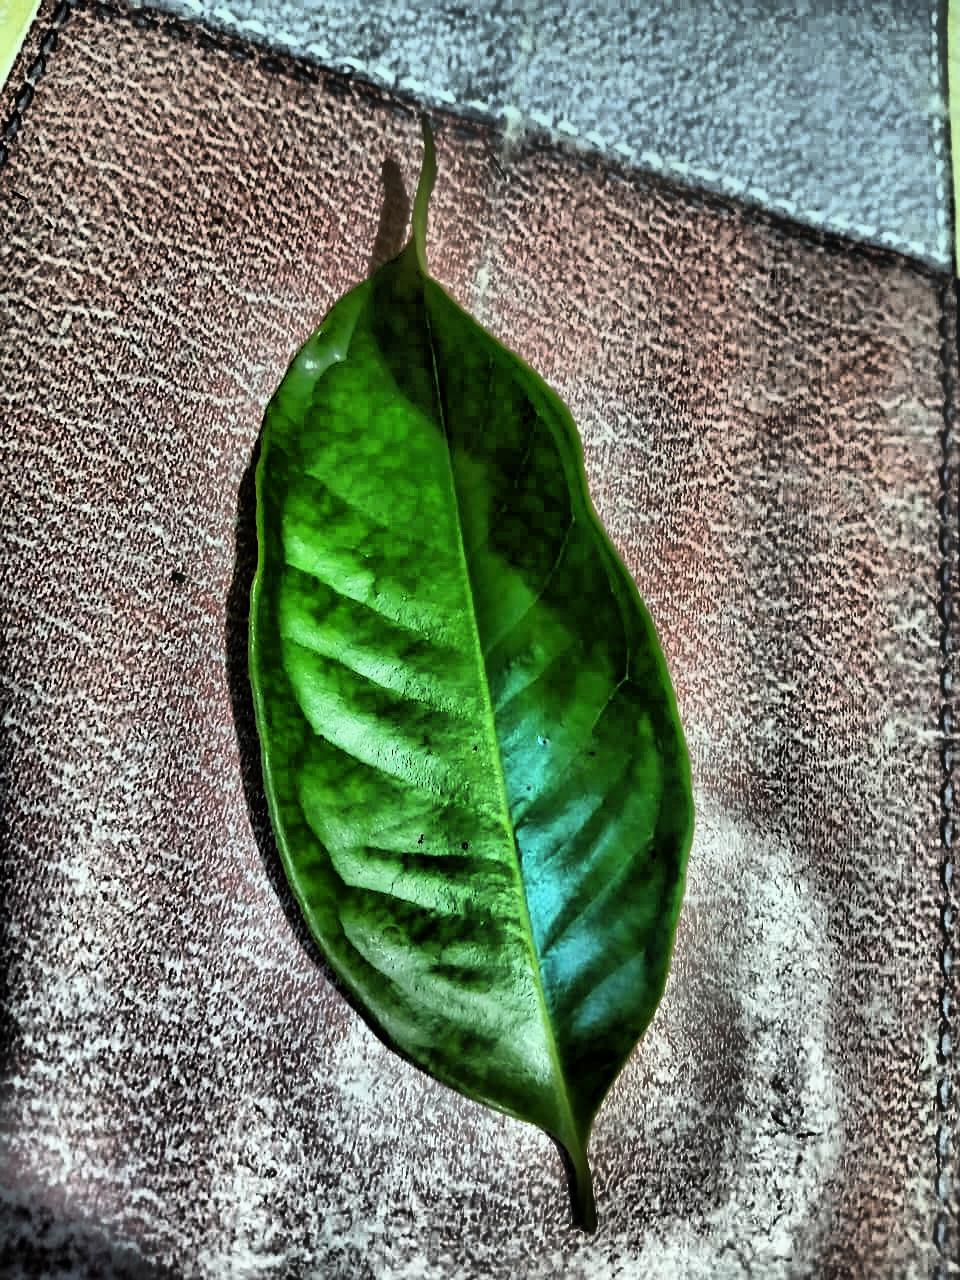daun salam: (249, 125, 693, 1228)
